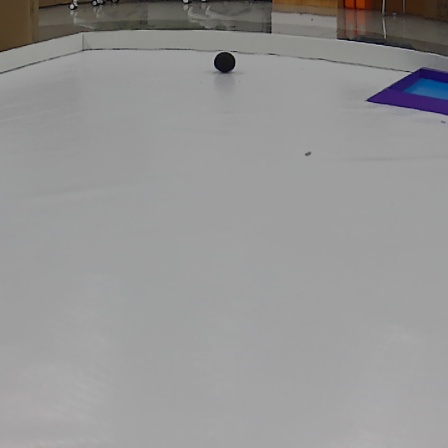black: (214, 52, 237, 72)
blue_aim: (361, 68, 448, 117)
